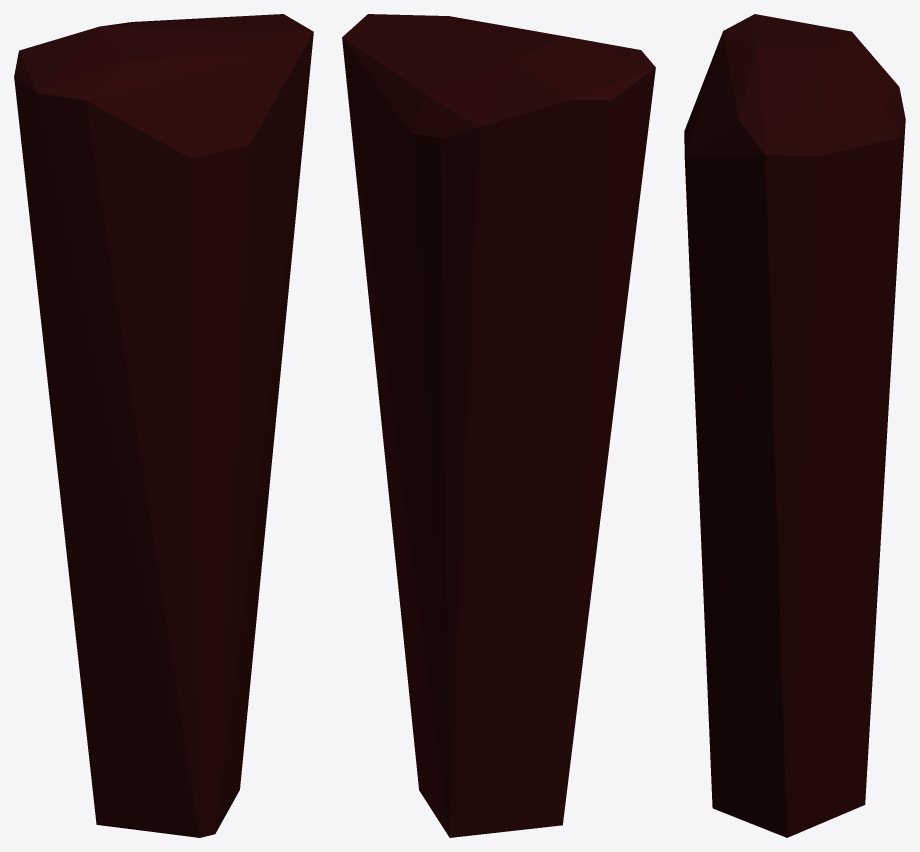
File: UCX_Pillar_A.fbx
3 renders of one model, left to right at view 1: azimuth 30°, elevation 25°; view 2: azimuth 150°, elevation 25°; view 3: azimuth 270°, elevation 25°, orthographic. The views are drawn at different scales.
Parts seen in each view (by area): view 1: UCX_Pillar_A; view 2: UCX_Pillar_A; view 3: UCX_Pillar_A.
Boxes of the visible parts, x1=… form: UCX_Pillar_A: x1=14, y1=14, x2=313, y2=837; UCX_Pillar_A: x1=342, y1=14, x2=655, y2=837; UCX_Pillar_A: x1=684, y1=14, x2=905, y2=837.
Bounding box in the file's own units: 186 × 490 × 134.
